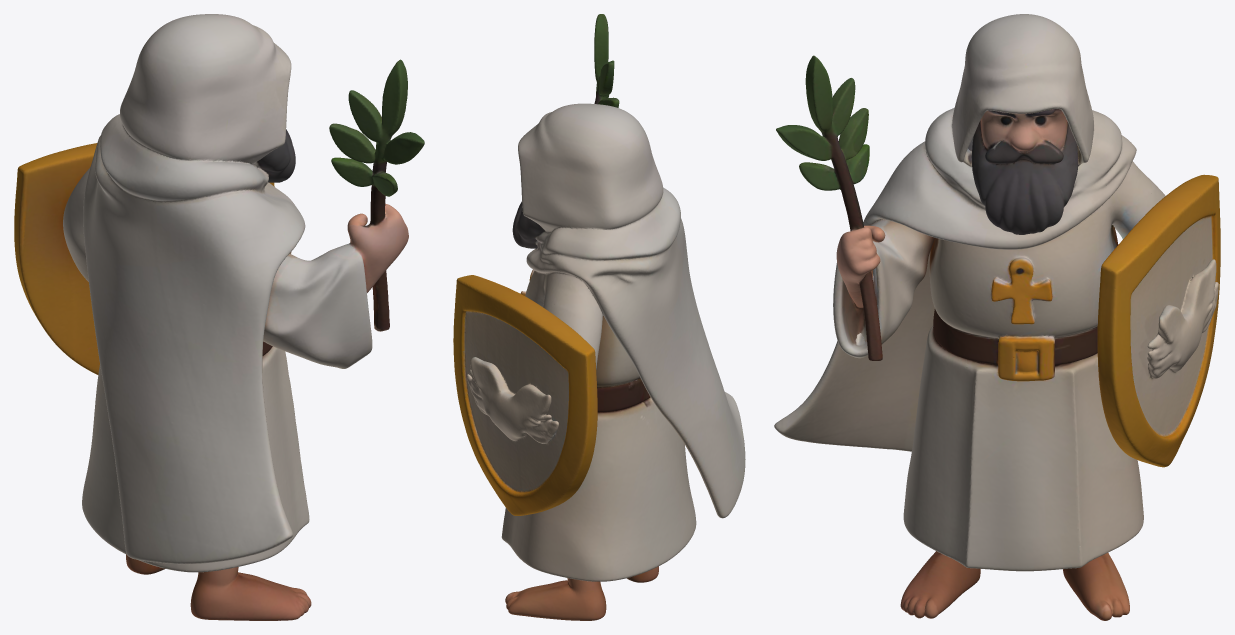
Rendered from peacekeeping_guard.glb.
The picture shows the model from 3 angles, left to right: view 1: azimuth 30°, elevation 25°; view 2: azimuth 150°, elevation 25°; view 3: azimuth 270°, elevation 25°; orthographic projection. The views are drawn at different scales.
Visible parts, largest first — view 1: tripo_node_4f96185e-9013-4e6c-b168-e1415724fb1b; view 2: tripo_node_4f96185e-9013-4e6c-b168-e1415724fb1b; view 3: tripo_node_4f96185e-9013-4e6c-b168-e1415724fb1b.
Boxes of the visible parts, x1,y1,x2,y2 form: tripo_node_4f96185e-9013-4e6c-b168-e1415724fb1b: (14, 14, 424, 620); tripo_node_4f96185e-9013-4e6c-b168-e1415724fb1b: (453, 14, 745, 620); tripo_node_4f96185e-9013-4e6c-b168-e1415724fb1b: (774, 14, 1220, 620).
Size of the model in its own units: 0.4351 by 1 by 0.6935.
1 material, 1 textured.
